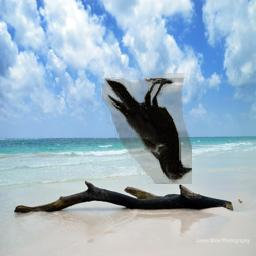Crow: (102, 74, 192, 185)
